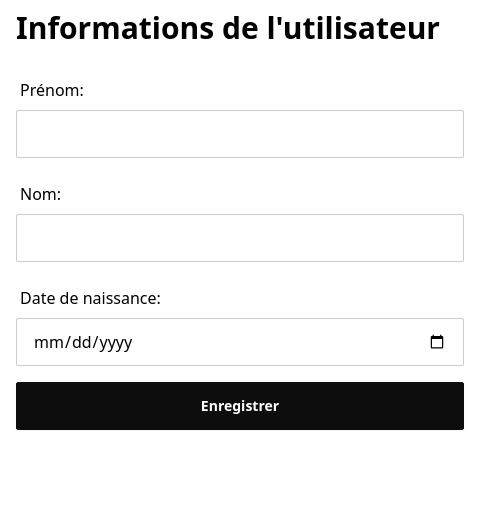
Test: InformationPage › displays validation errors when submitting with empty fields
Click the button "Enregistrer".
click(240, 406)  # box [16, 382, 464, 430]
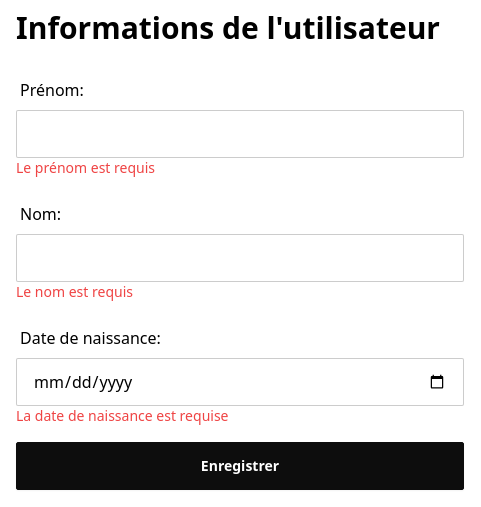
expect the text "Le prénom est requis" is shown: met, box [16, 158, 155, 177]
expect the text "Le nom est requis" is shown: met, box [16, 282, 133, 301]
expect the text "La date de naissance est requise" is shown: met, box [16, 406, 228, 425]
